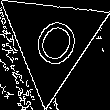O_SW: (22, 7, 81, 75)
